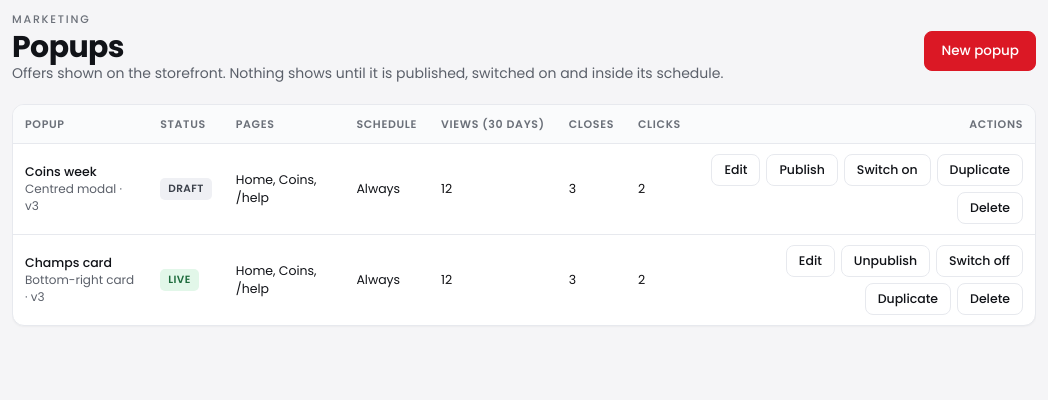
the list › says why publishing was refused
Click the button "Publish": (802, 170) [766,154,838,186]
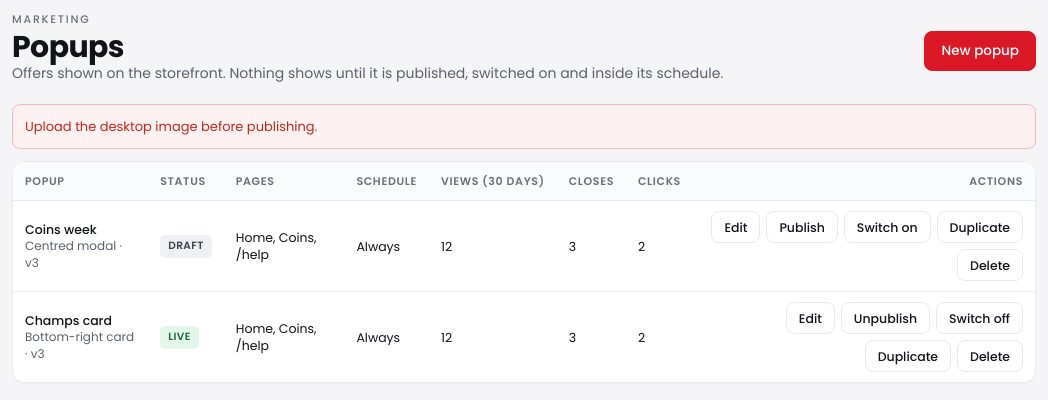
Check: the message reads "Upload the desktop image before publishing.", box [25,117,317,136]
